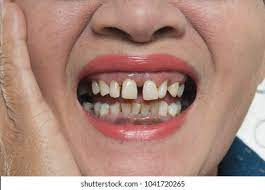normal: (159, 100, 168, 116), (177, 81, 185, 97), (100, 80, 108, 95), (110, 102, 120, 114), (100, 102, 109, 115), (92, 80, 99, 94), (169, 102, 176, 116), (93, 101, 101, 113), (177, 102, 181, 112)
yellow: (120, 79, 136, 99), (143, 80, 157, 100), (109, 79, 120, 98), (168, 80, 177, 98), (119, 102, 130, 115), (159, 80, 166, 97), (149, 102, 158, 115), (131, 102, 139, 115), (140, 102, 148, 115)
